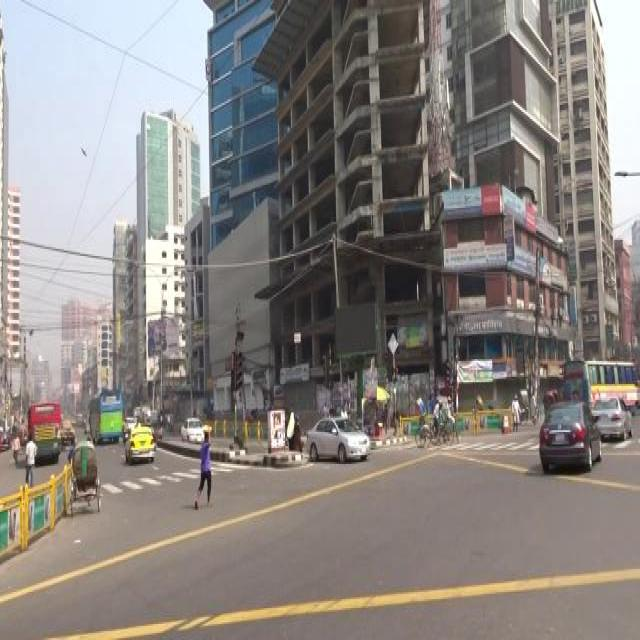bus: (562, 357, 640, 411), (27, 400, 62, 457), (88, 387, 122, 438)
car: (538, 399, 602, 472), (305, 416, 371, 459), (590, 394, 632, 438), (180, 415, 202, 442)
rickshaw: (68, 438, 102, 515), (414, 396, 454, 447), (518, 387, 536, 424), (542, 390, 554, 414), (17, 422, 27, 446), (476, 391, 486, 413)
taxi: (124, 423, 156, 459)
